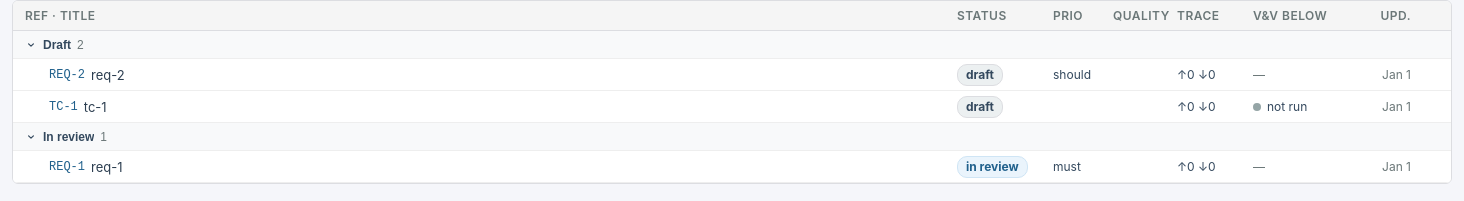
Test: useListView with the chip search › draws the hierarchical table under the chosen groups, each folding on its own
Step 1. Click the button "Draft 2" → click(31, 44), box [13,31,1451,59]
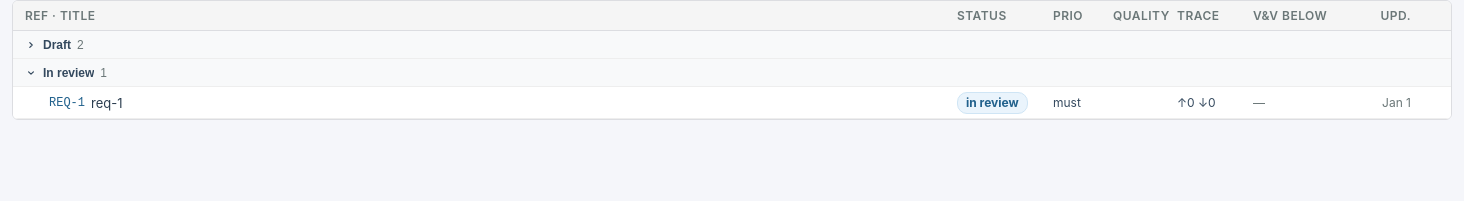
Expected: the number of list items is 1, [13,87,1451,119]
